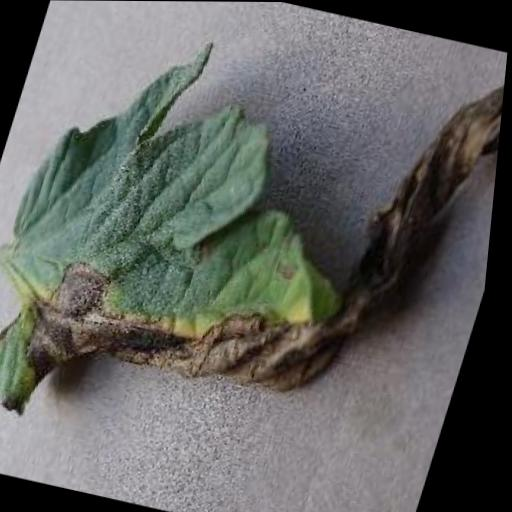Early Blight: (0, 0, 512, 509)
